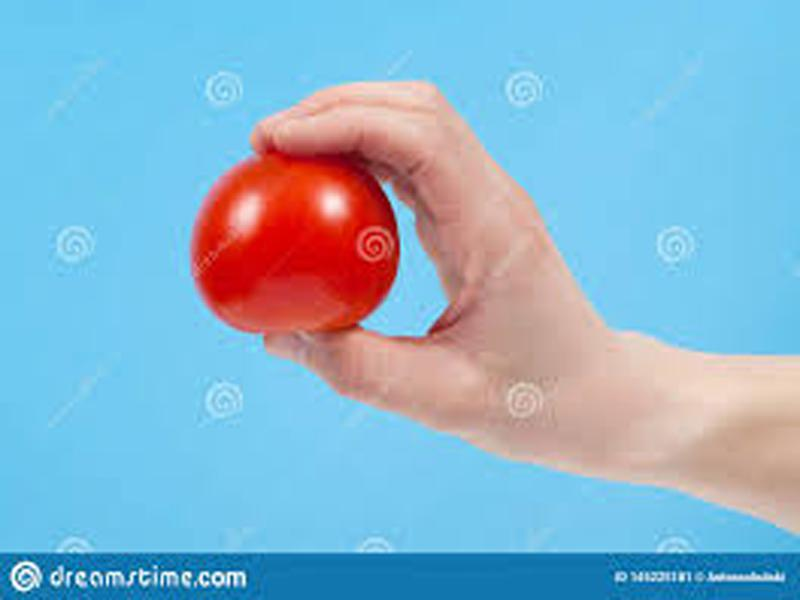Tomato: (191, 148, 397, 333)
